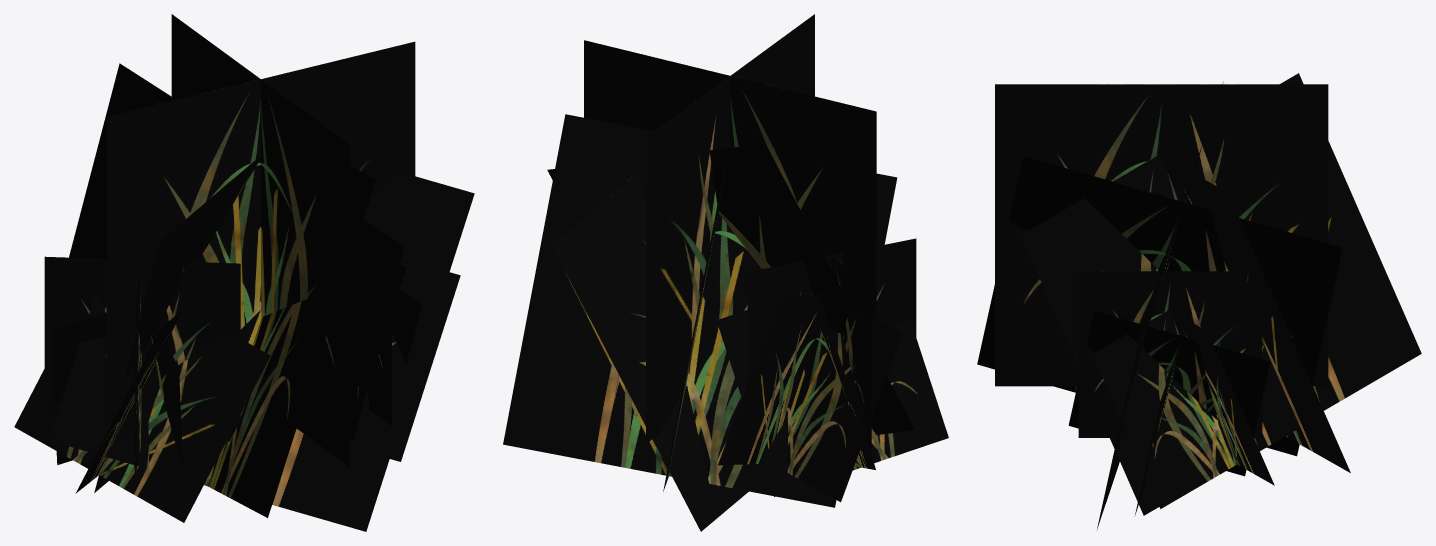
Rendered from Gras_model.FBX.
3 renders of one model, left to right at view 1: azimuth 30°, elevation 25°; view 2: azimuth 150°, elevation 25°; view 3: azimuth 270°, elevation 25°, orthographic. The views are drawn at different scales.
Parts seen in each view (by area): view 1: Plane001, Plane002, Plane006, Plane018, Plane005, Plane017, Plane003, Plane004, Plane012, Plane014, Plane015, Plane016 (+4 smaller); view 2: Plane004, Plane001, Plane002, Plane005, Plane006, Plane014, Plane016, Plane015, Plane013, Plane017, Plane018, Plane003; view 3: Plane002, Plane003, Plane005, Plane010, Plane007, Plane004, Plane009, Plane008, Plane006, Plane012.
Boxes of the visible parts, box(x1,y1,x2,y2) form: Plane001: box(106, 41, 415, 437); Plane002: box(171, 14, 349, 466); Plane006: box(49, 102, 474, 531); Plane018: box(14, 333, 270, 522); Plane005: box(208, 166, 375, 517); Plane017: box(44, 256, 240, 441); Plane003: box(69, 63, 404, 441); Plane004: box(94, 155, 261, 492); Plane012: box(390, 272, 460, 461); Plane014: box(51, 313, 106, 464); Plane015: box(75, 310, 182, 493); Plane016: box(106, 236, 183, 471); Plane004: box(503, 114, 897, 507); Plane001: box(584, 40, 876, 317); Plane002: box(646, 14, 814, 443); Plane005: box(551, 172, 748, 531); Plane006: box(547, 143, 914, 434); Plane014: box(787, 316, 902, 502); Plane016: box(718, 294, 820, 465); Plane015: box(716, 310, 948, 496); Plane013: box(747, 238, 916, 383); Plane017: box(824, 248, 871, 455); Plane018: box(811, 292, 875, 469); Plane003: box(663, 146, 731, 491); Plane002: box(995, 84, 1328, 386); Plane003: box(1021, 73, 1421, 515); Plane005: box(977, 156, 1342, 456); Plane010: box(1093, 310, 1300, 508); Plane007: box(1078, 271, 1262, 437); Plane004: box(1160, 154, 1350, 472); Plane009: box(1068, 310, 1270, 476); Plane008: box(1169, 310, 1274, 485); Plane006: box(1096, 81, 1223, 530); Plane012: box(1134, 305, 1192, 516).
Bounding box in the file's own units: 68.26 × 70.43 × 68.32.
